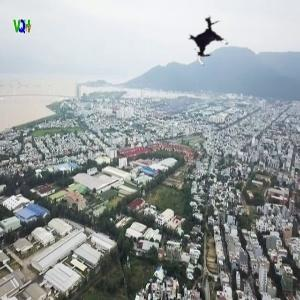drone: (183, 15, 237, 69)
